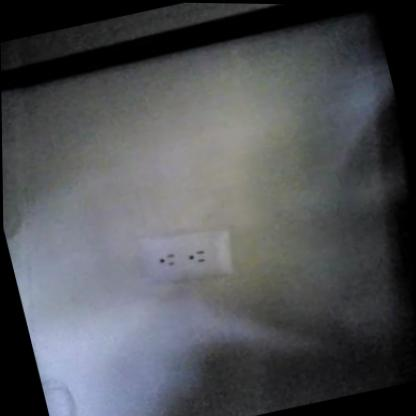OUTLET: (131, 217, 242, 297)
